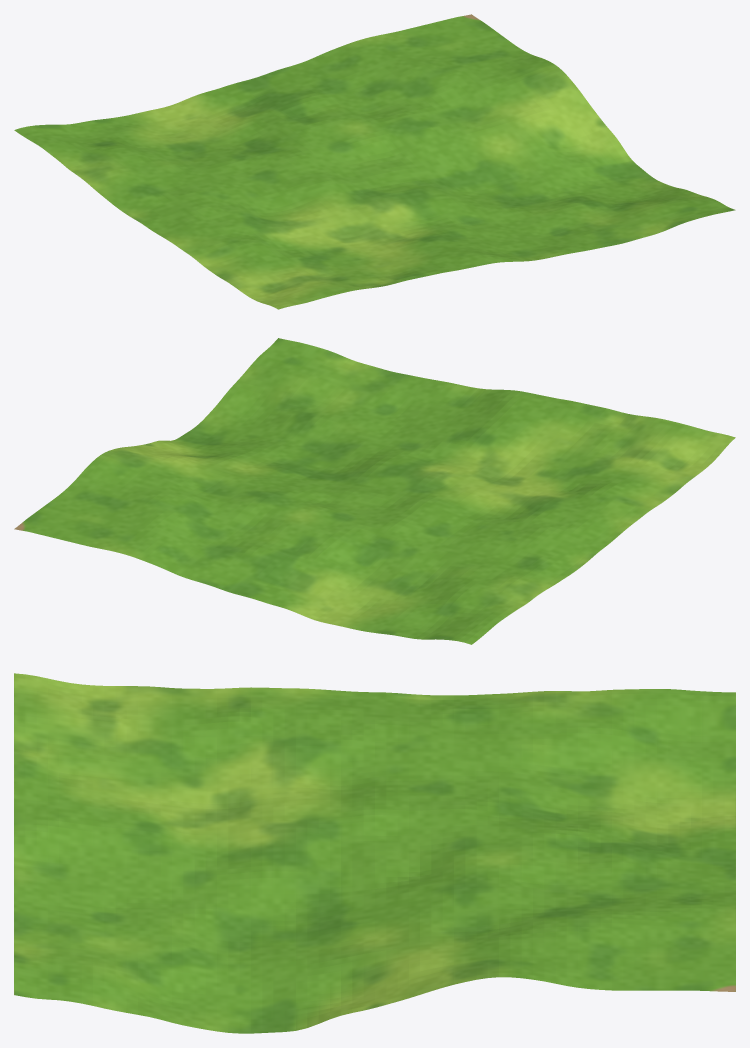
File: chunk_0_0.fbx
3 views of the same model, one above another, from view 1: azimuth 30°, elevation 25°; view 2: azimuth 150°, elevation 25°; view 3: azimuth 270°, elevation 25° (orthographic). The views are drawn at different scales.
Visible parts, largest first — view 1: chunk_0_0; view 2: chunk_0_0; view 3: chunk_0_0.
Boxes of the visible parts, <box> form: chunk_0_0: <box>14,14,735,309</box>; chunk_0_0: <box>14,338,735,644</box>; chunk_0_0: <box>14,673,735,1033</box>.
Bounding box in the file's own units: 6400 × 6400 × 554.
1 material, 1 textured.
